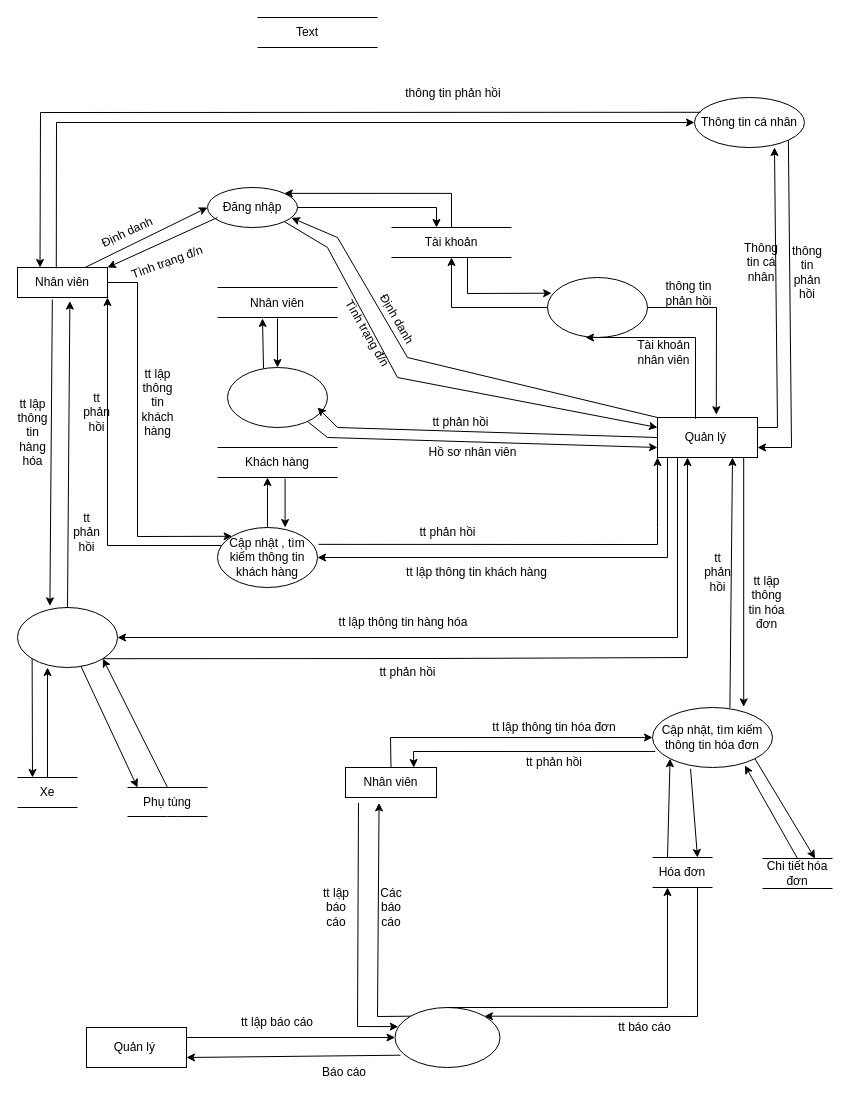
This 851x1105 diagram has some shape labels left out. The centre of each missing label's shape, as x and y in pixels:
Báo cáo Thống kê: the point at 447,1037
Cập nhật , tìm kiếm thông tin nhân viên: the point at 277,397
Cập nhật ,tìm kiếm thông tin hàng hóa: the point at 67,637
Cập nhật thông tin tài khoản: the point at 597,307
